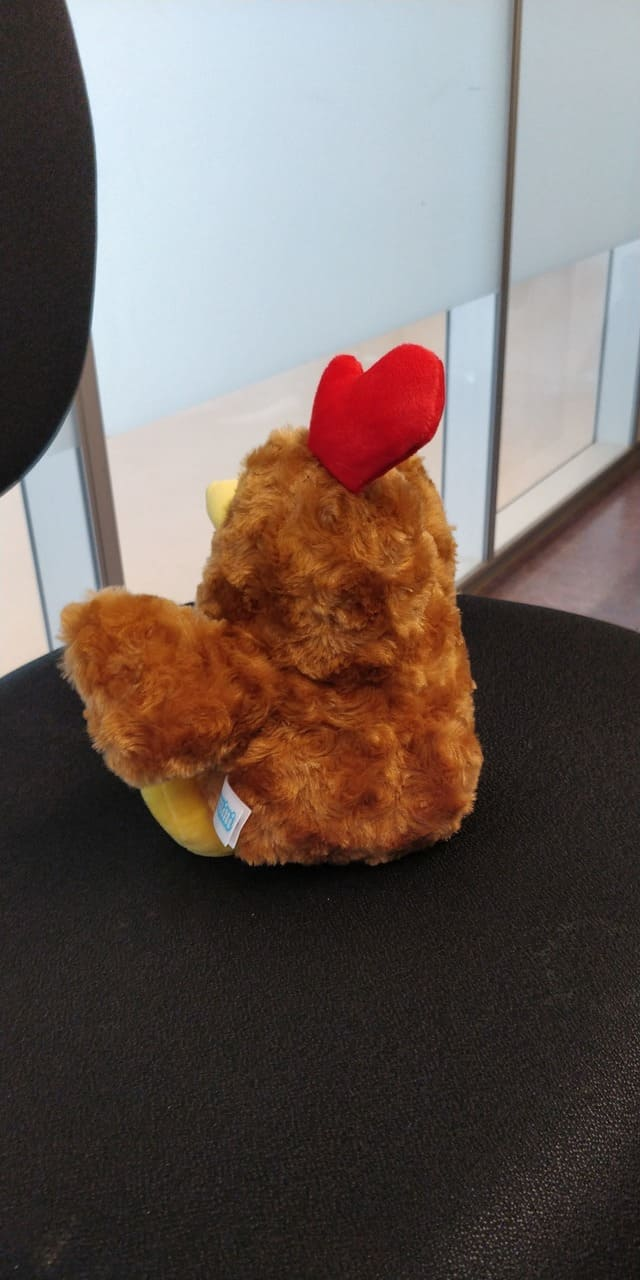fakeChicken: (62, 338, 484, 878)
